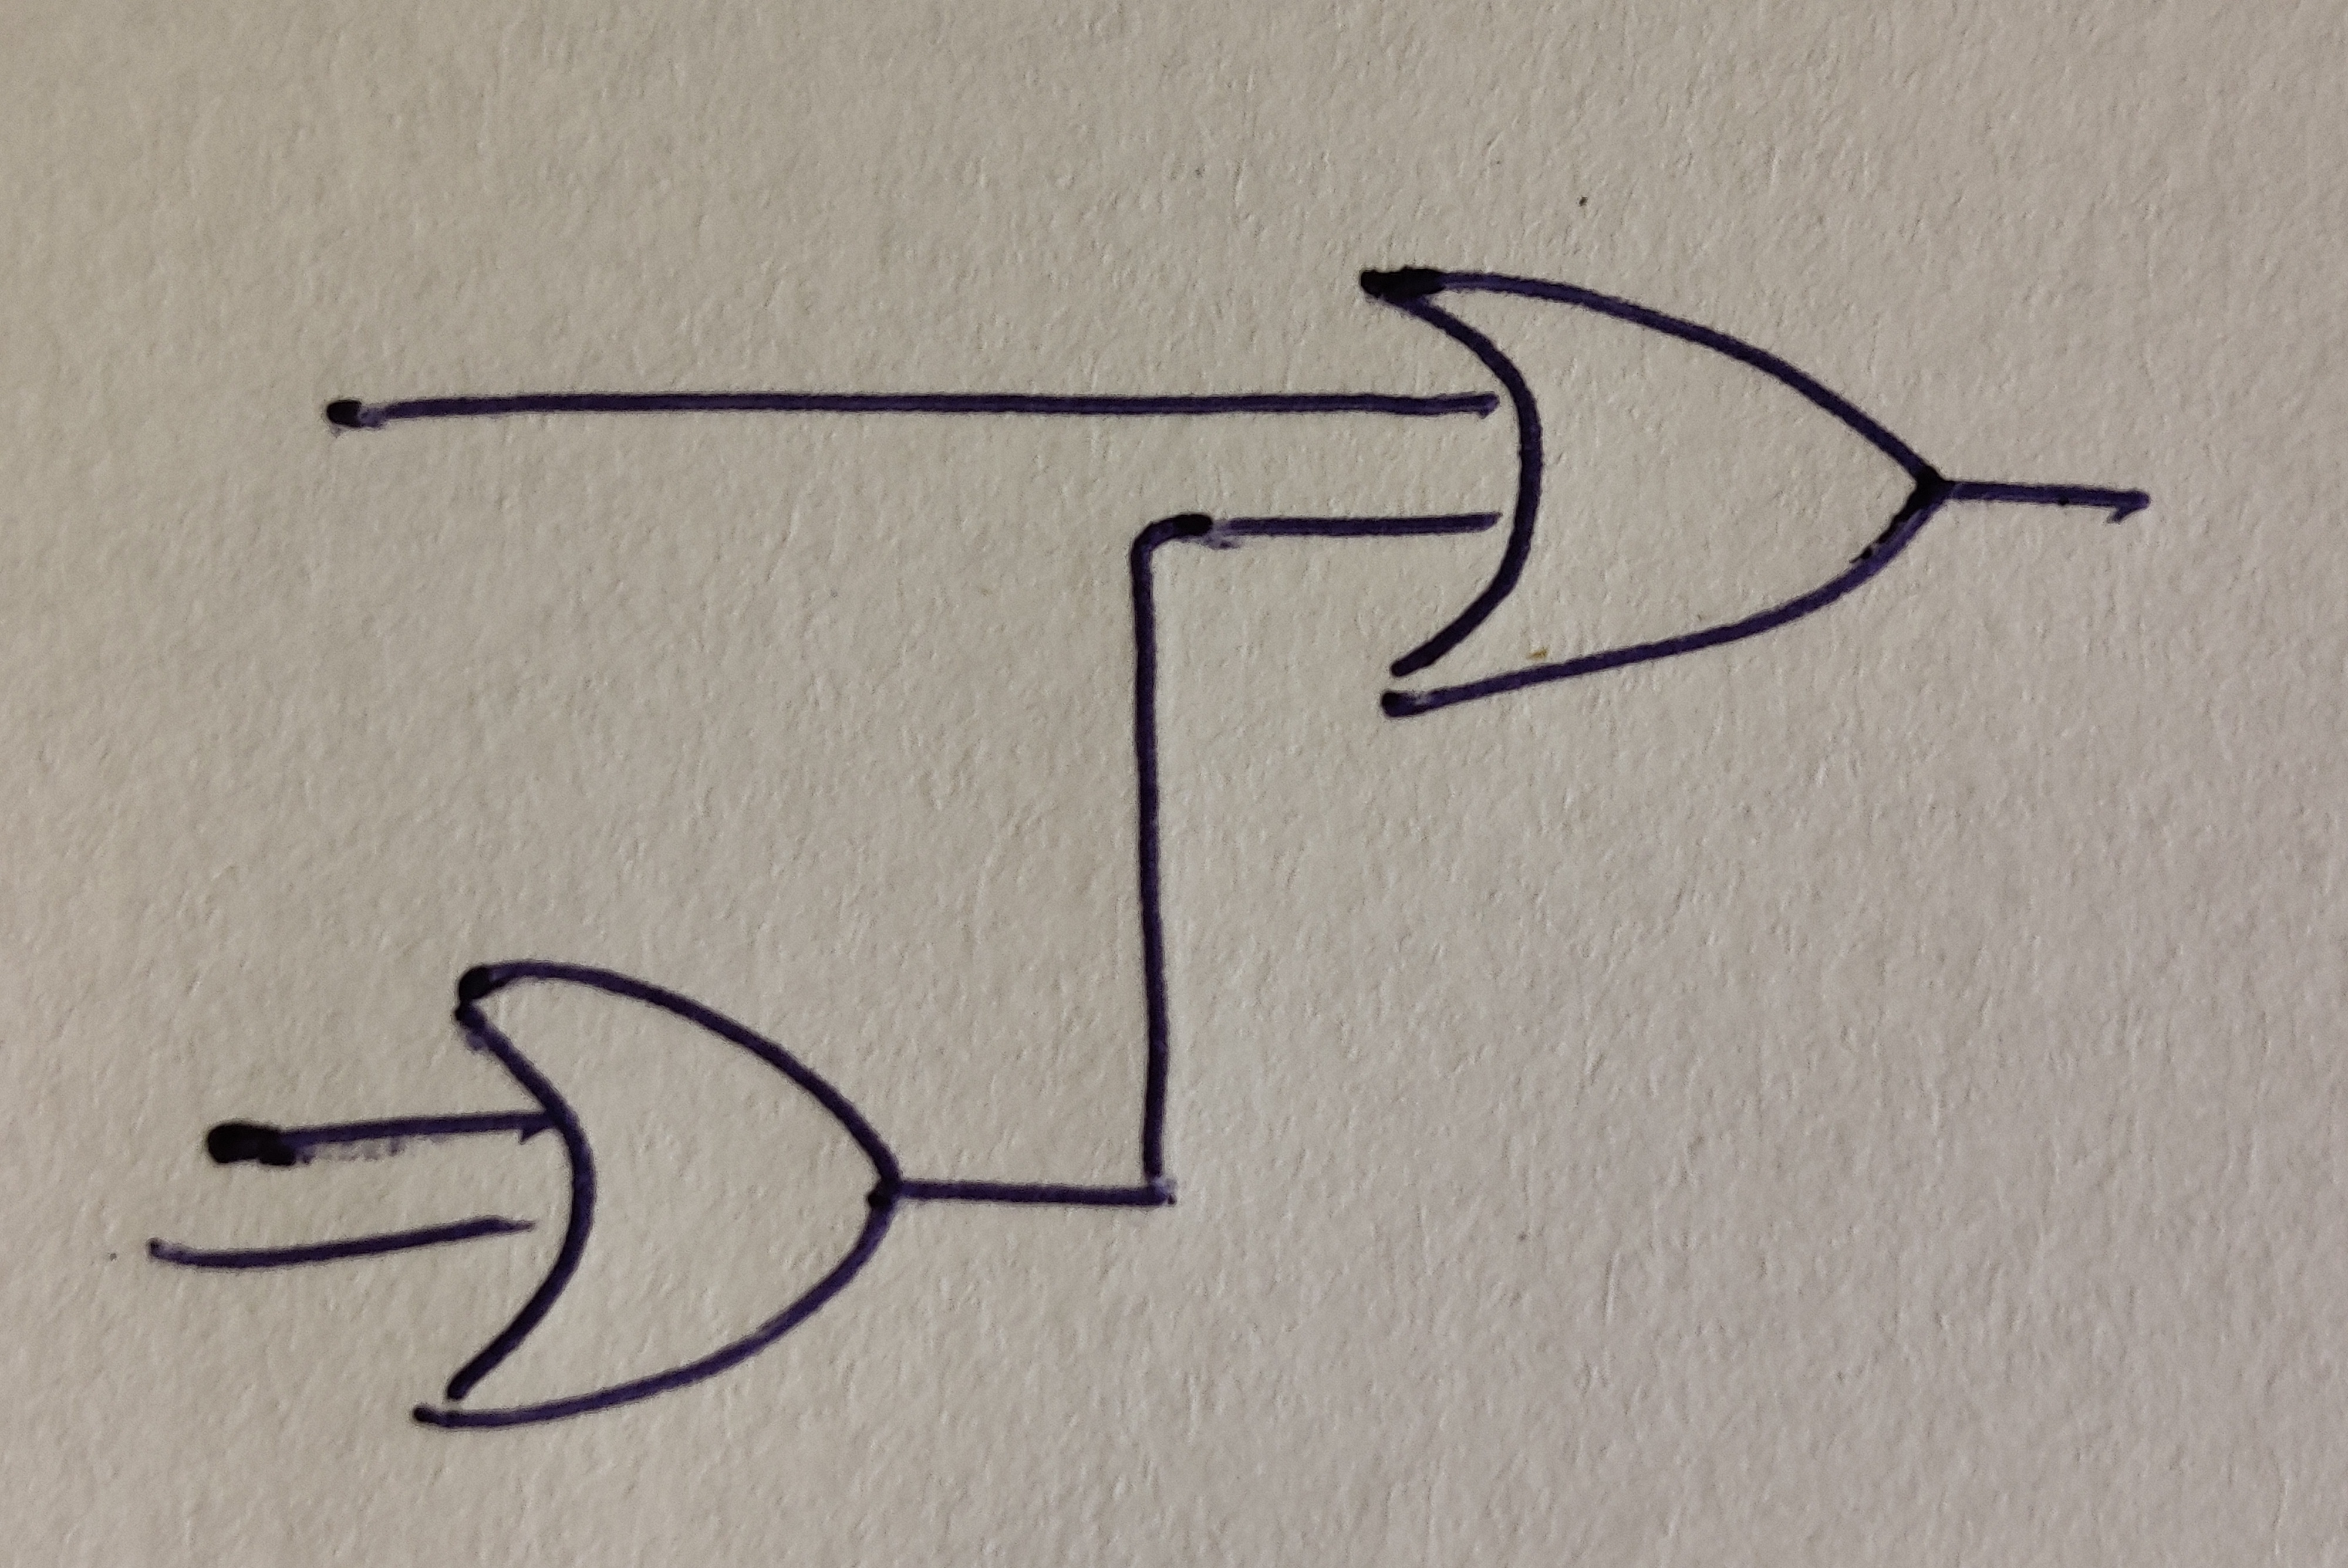or: (1356, 266, 1947, 717), (413, 961, 901, 1428)
